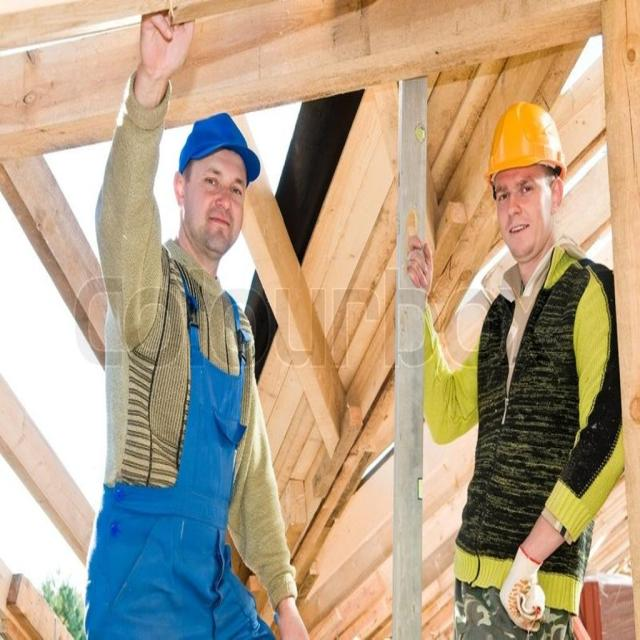Face: (168, 129, 252, 264), (486, 151, 560, 267)
